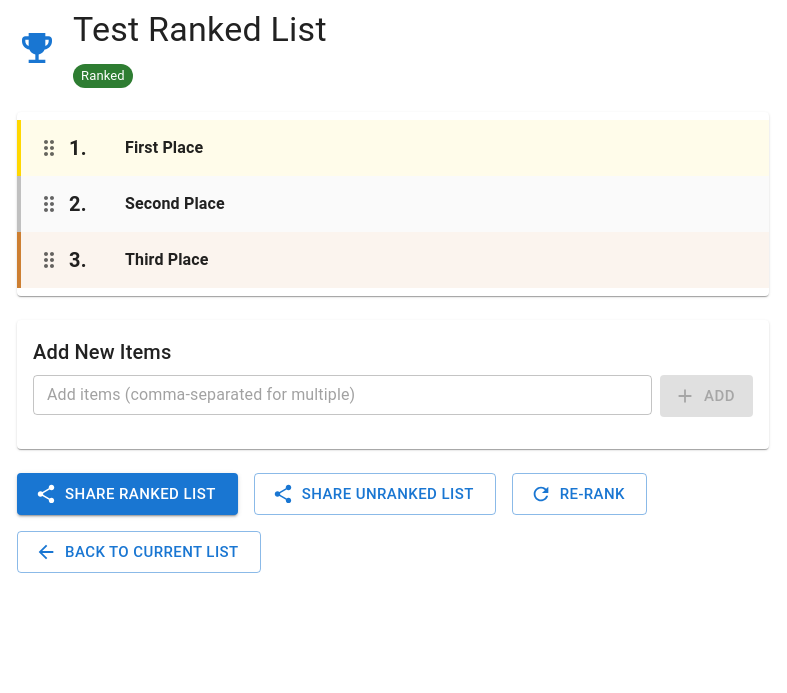
RankedResultView › Integration Scenarios › deletes one of multiple unranked items
This screenshot has width=787, height=693.
Type "Keep Me" into the field with placeholder "Add items (comma-separated for multiple)".
click(343, 395); type("Keep Me")  # box [33,375,652,415]
Then press Enter
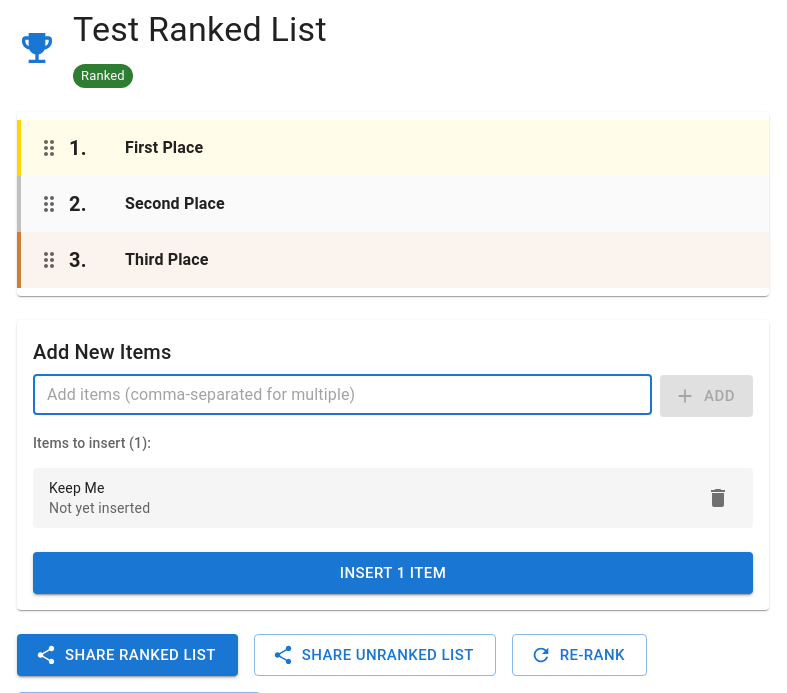
Type "Delete Me" into the field with placeholder "Add items (comma-separated for multiple)".
click(343, 395); type("Delete Me")  # box [33,375,652,415]
Then press Enter
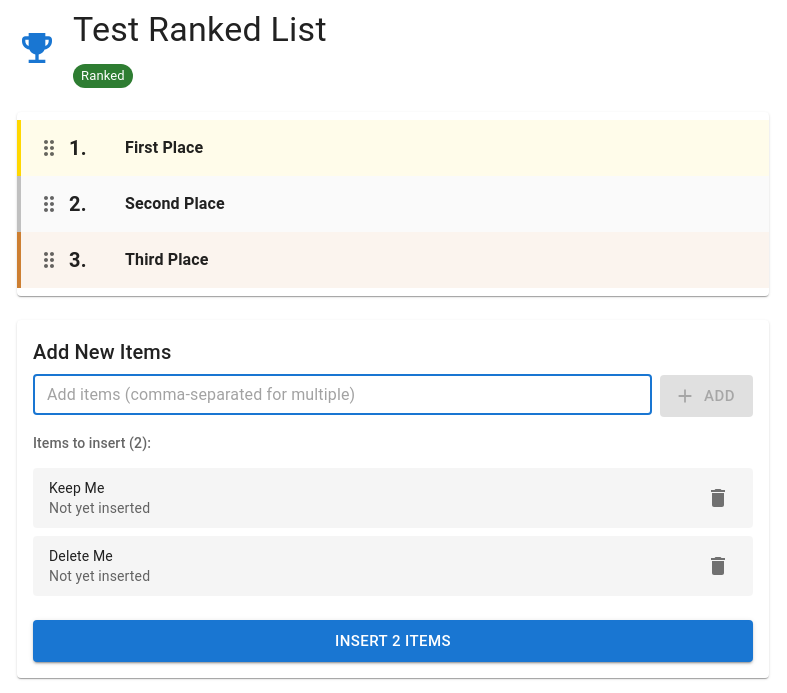
Now the text "Keep Me" is shown, box [49,480,104,496]
Now the text "Delete Me" is shown, box [49,548,113,564]
Click the button without text in the row of "Delete Me".
click(718, 566)  # box [696,544,740,588]
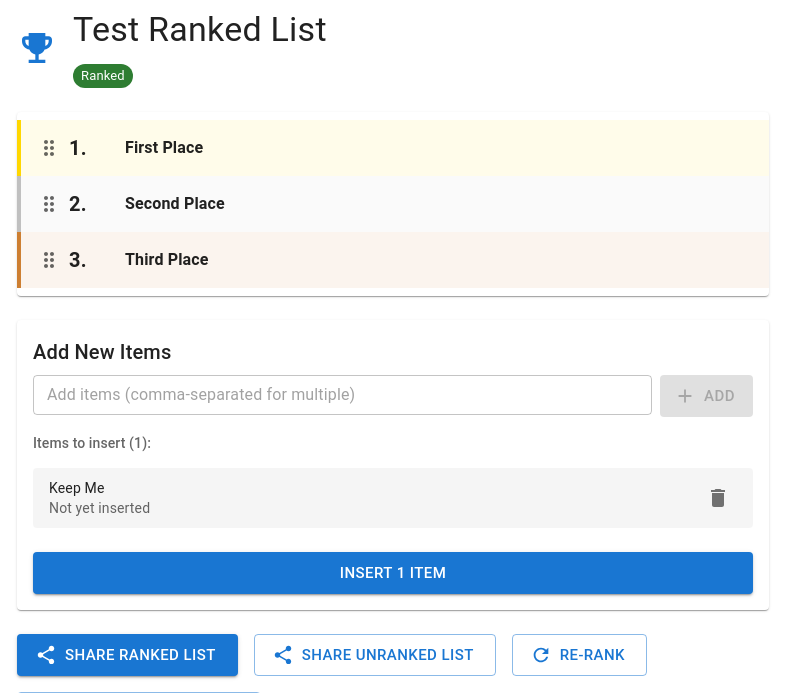
Now the text "Keep Me" is shown, box [49,480,104,496]
Now the text "Delete Me" is gone
Now the heading "Items to insert (1):" is shown, box [33,435,151,451]
